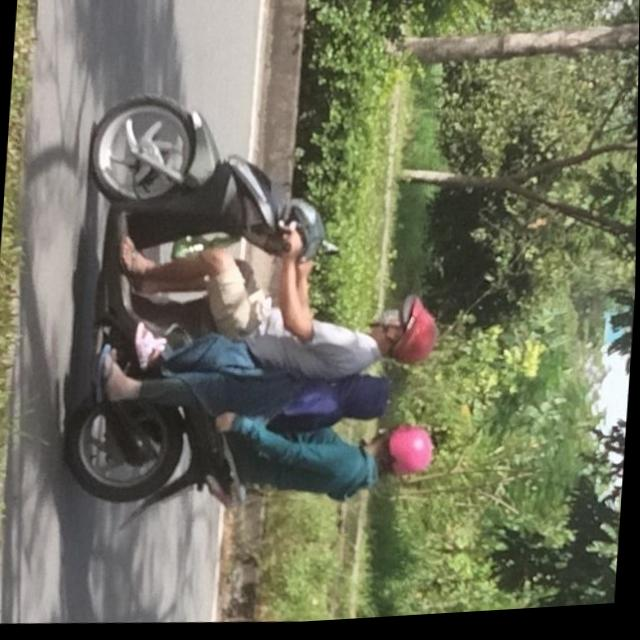WITH_HELMET: (369, 297, 447, 376), (383, 422, 438, 486)
